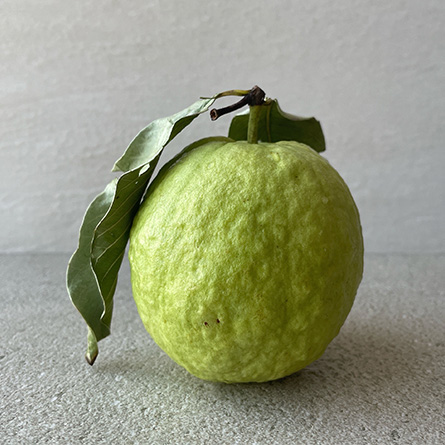guava: (121, 113, 369, 391)
